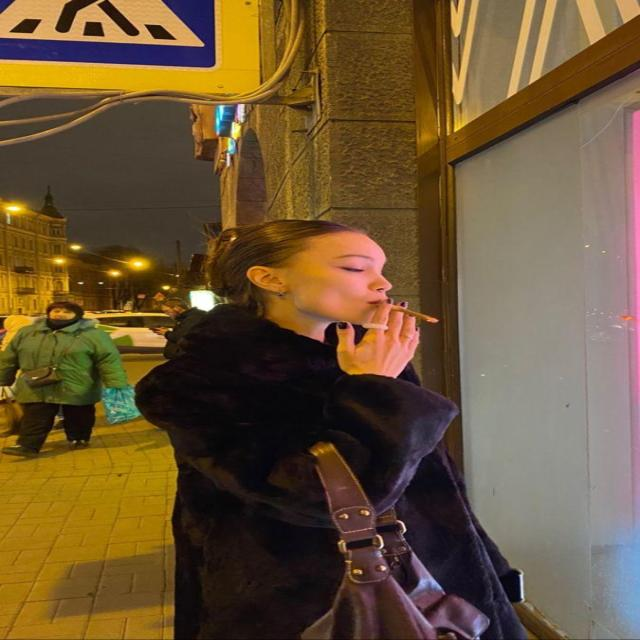cigarette: (364, 287, 468, 338)
